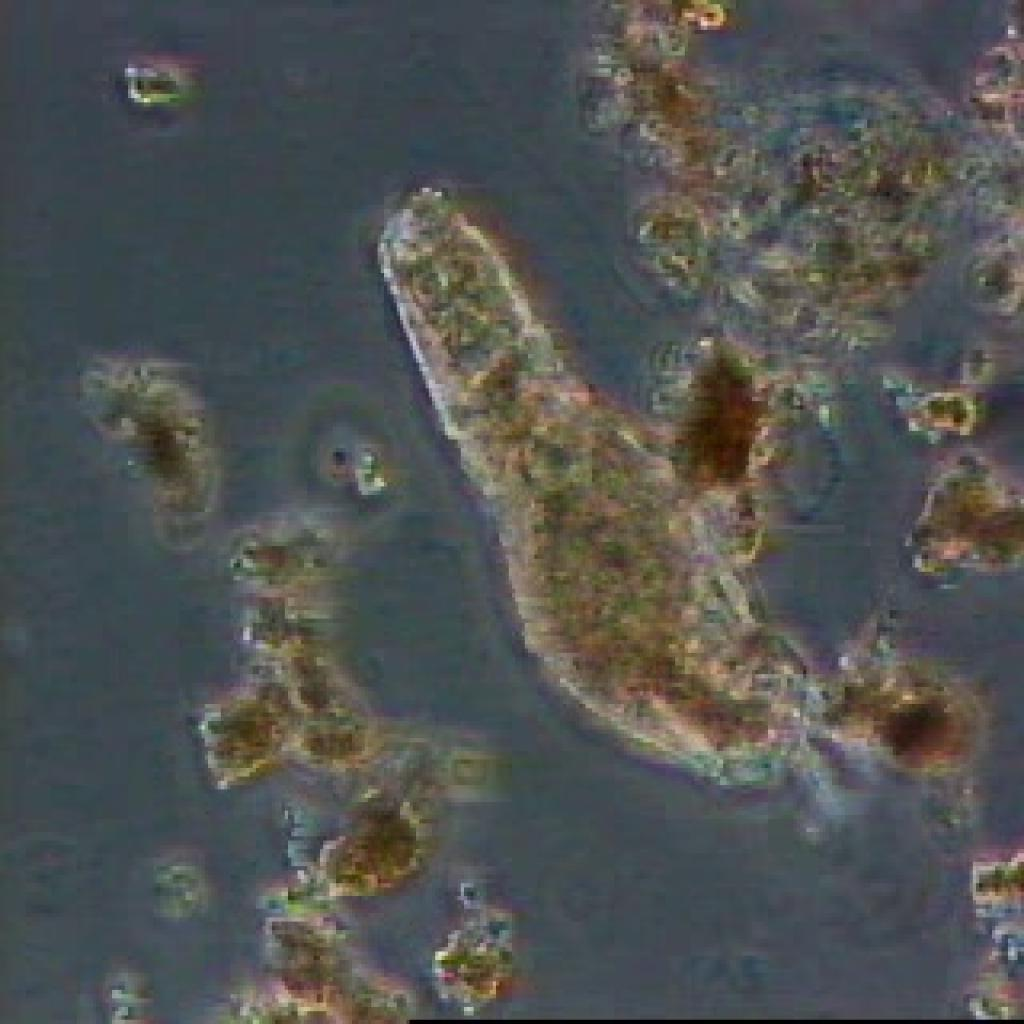Rotatoria: (374, 200, 829, 845)
